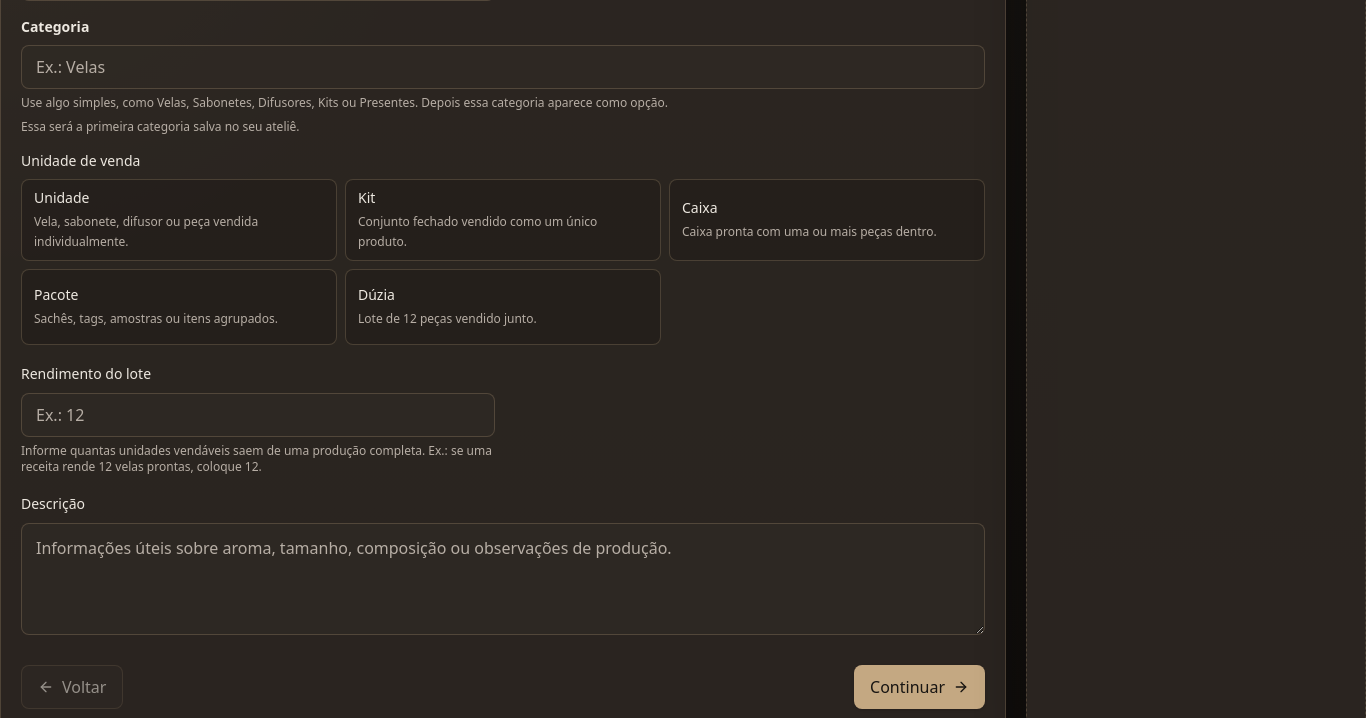
it: ProductForm › shows a friendly message when continuing without filling the first step
(page scrolled)
Click the button "Continuar": click(920, 687) [854, 665, 985, 709]
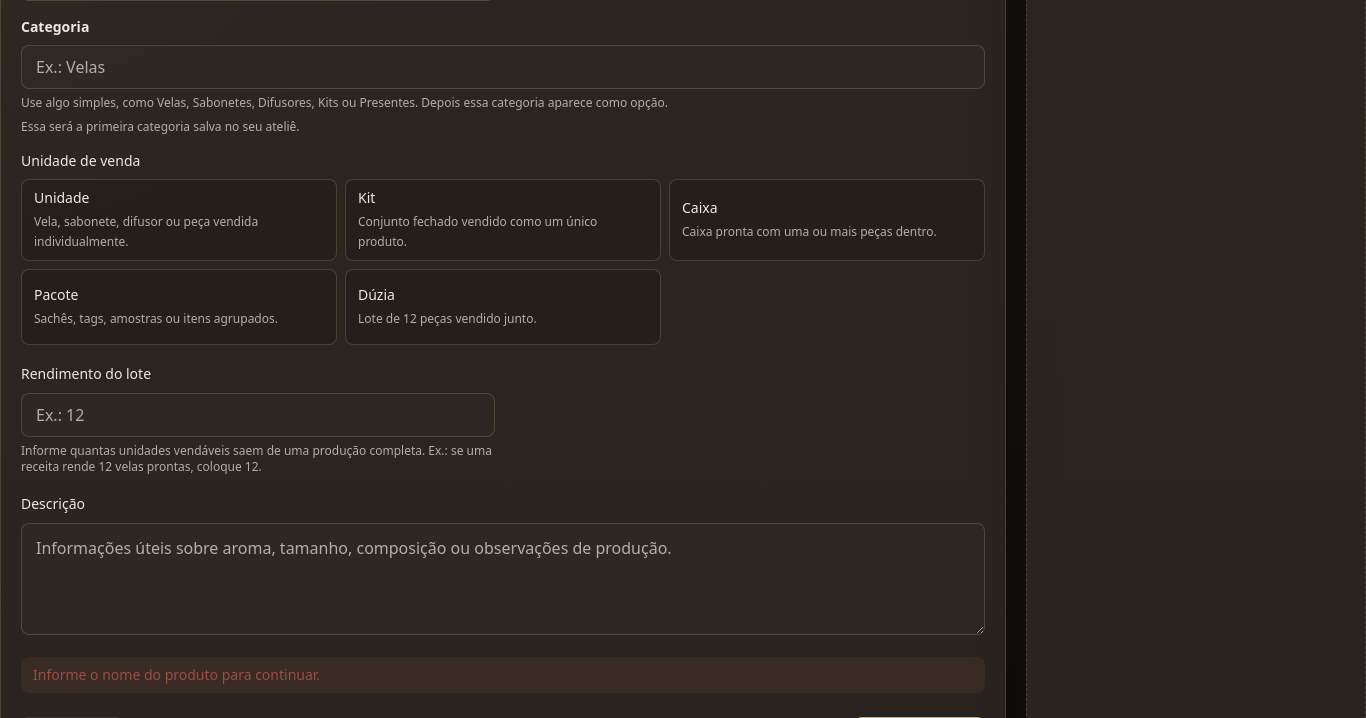
Now the message reads "Informe o nome do produto para continuar.", box [33, 665, 320, 684]
